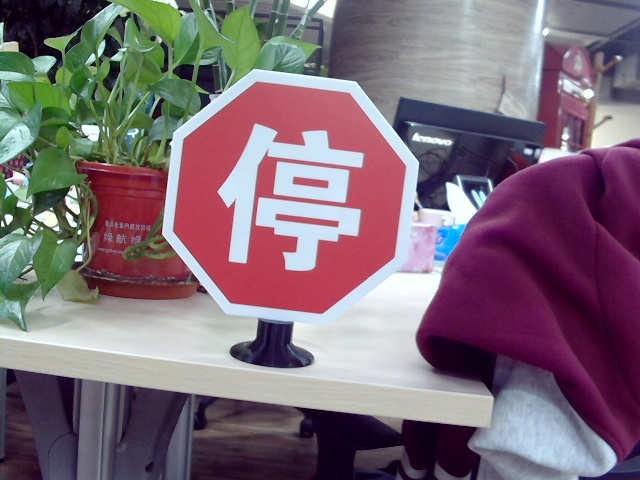stop: (214, 117, 370, 275)
